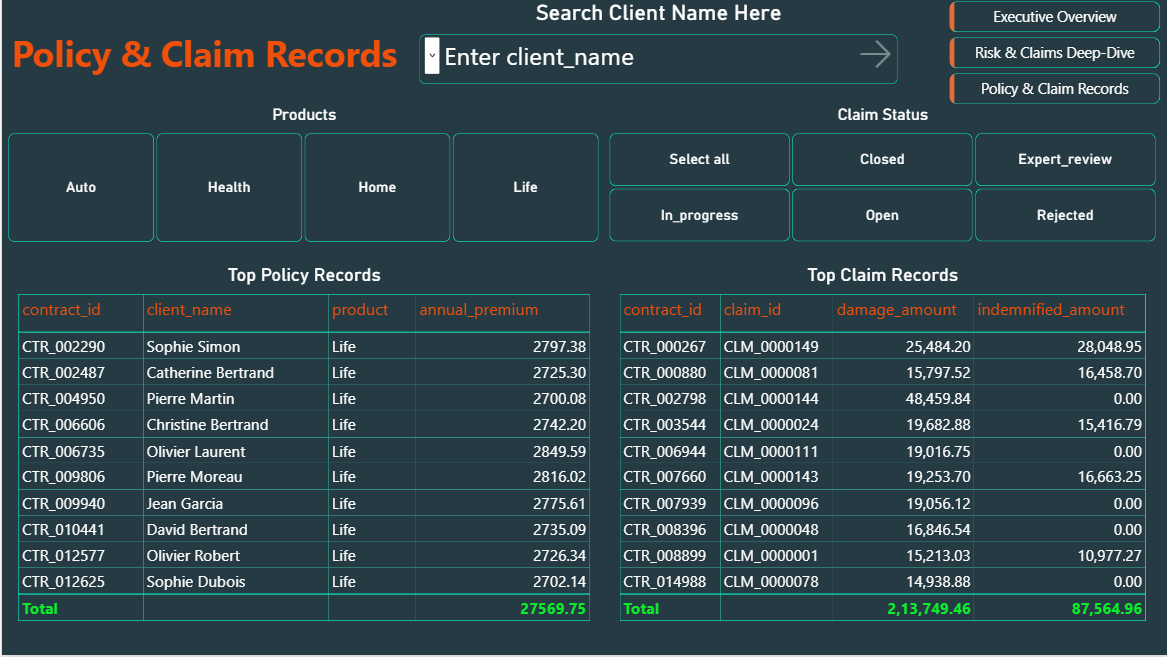

This screenshot's page, from the dashboard's own definition file:
{"tool":"powerbi","page":{"name":"Policy & Claim Records","canvas":[1920,1080],"ordinal":2},"visuals":[{"type":"textbox","box":[10.3,47.3,646.3,88.5],"z":0},{"type":"advancedSlicerVisual","title":"Claim Status","fields":{"Values":["public clean_claims.status"]},"box":[1000.8,172.8,900.5,226.2],"z":1000},{"type":"advancedSlicerVisual","title":"Products","fields":{"Values":["public clean_contracts.product"]},"box":[10.7,172.8,975.2,226.2],"z":2000},{"type":"textSlicer","title":"Search Client Name Here","fields":{"Values":["public clean_contracts.client_name"]},"box":[687.5,0,787.4,138.7],"z":3000},{"type":"tableEx","title":"Top Claim Records","fields":{"Values":["public clean_contracts.contract_id","public clean_claims.claim_id","Sum(public clean_claims.damage_amount)","Sum(public clean_claims.indemnified_amount)"]},"box":[1000.8,420.4,900.5,640.1],"z":4000},{"type":"tableEx","title":"Top Policy Records","fields":{"Values":["public clean_contracts.contract_id","public clean_contracts.client_name","public clean_contracts.product","Sum(public clean_contracts.annual_premium)"]},"box":[10.7,420.4,975.2,640.1],"z":5000},{"type":"pageNavigator","box":[1560.2,2.1,347.9,170.8],"z":5001}]}

Visuals, with their boxes in screenshot pixels (x1, y1, x2, y2), scaled from the page's 1920x1080 canvas onto the 1167x657 screenshot:
textbox: Rect(6, 29, 399, 83)
"Claim Status" advancedSlicerVisual: Rect(608, 105, 1156, 243)
"Products" advancedSlicerVisual: Rect(7, 105, 599, 243)
"Search Client Name Here" textSlicer: Rect(418, 0, 896, 84)
"Top Claim Records" tableEx: Rect(608, 256, 1156, 645)
"Top Policy Records" tableEx: Rect(7, 256, 599, 645)
pageNavigator: Rect(948, 1, 1160, 105)
